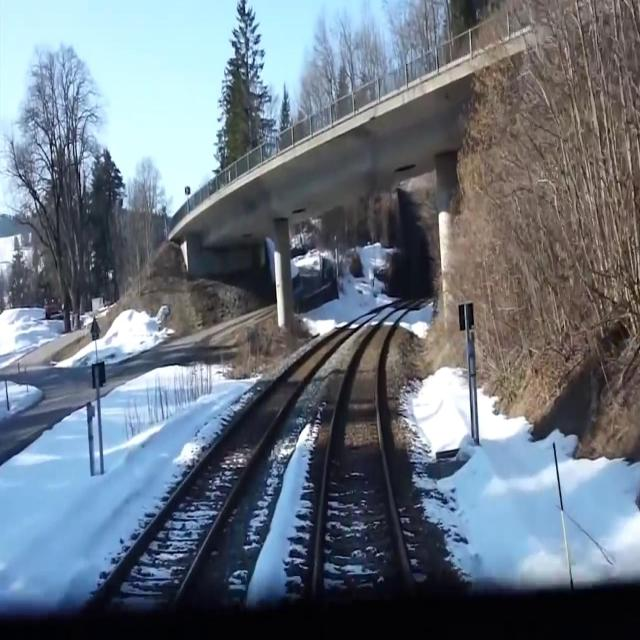rail-track: (72, 305, 394, 639), (312, 302, 421, 639)
